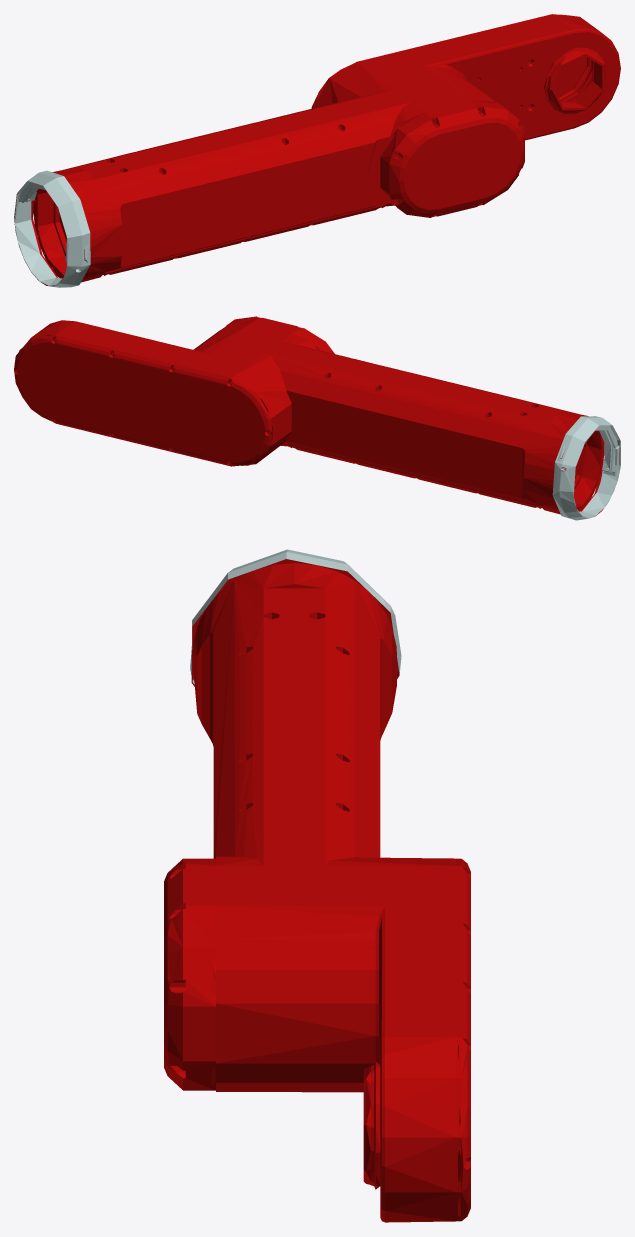
File: arm_link_3.dae
3 renders of one model, top to bottom at view 1: azimuth 30°, elevation 25°; view 2: azimuth 150°, elevation 25°; view 3: azimuth 270°, elevation 25°, orthographic. The views are drawn at different scales.
Parts seen in each view (by area): view 1: Arm_Link_3; view 2: Arm_Link_3; view 3: Arm_Link_3.
Boxes of the visible parts, left/top/right/bottom form: Arm_Link_3: left=14, top=14, right=620, bottom=287; Arm_Link_3: left=14, top=316, right=620, bottom=520; Arm_Link_3: left=164, top=549, right=470, bottom=1222.
Bounding box in the file's own units: 526 × 129 × 89.85.
